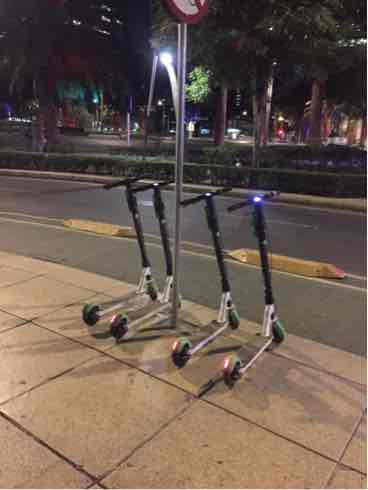too close: (256, 311, 309, 363), (207, 297, 253, 339), (127, 271, 166, 304)
